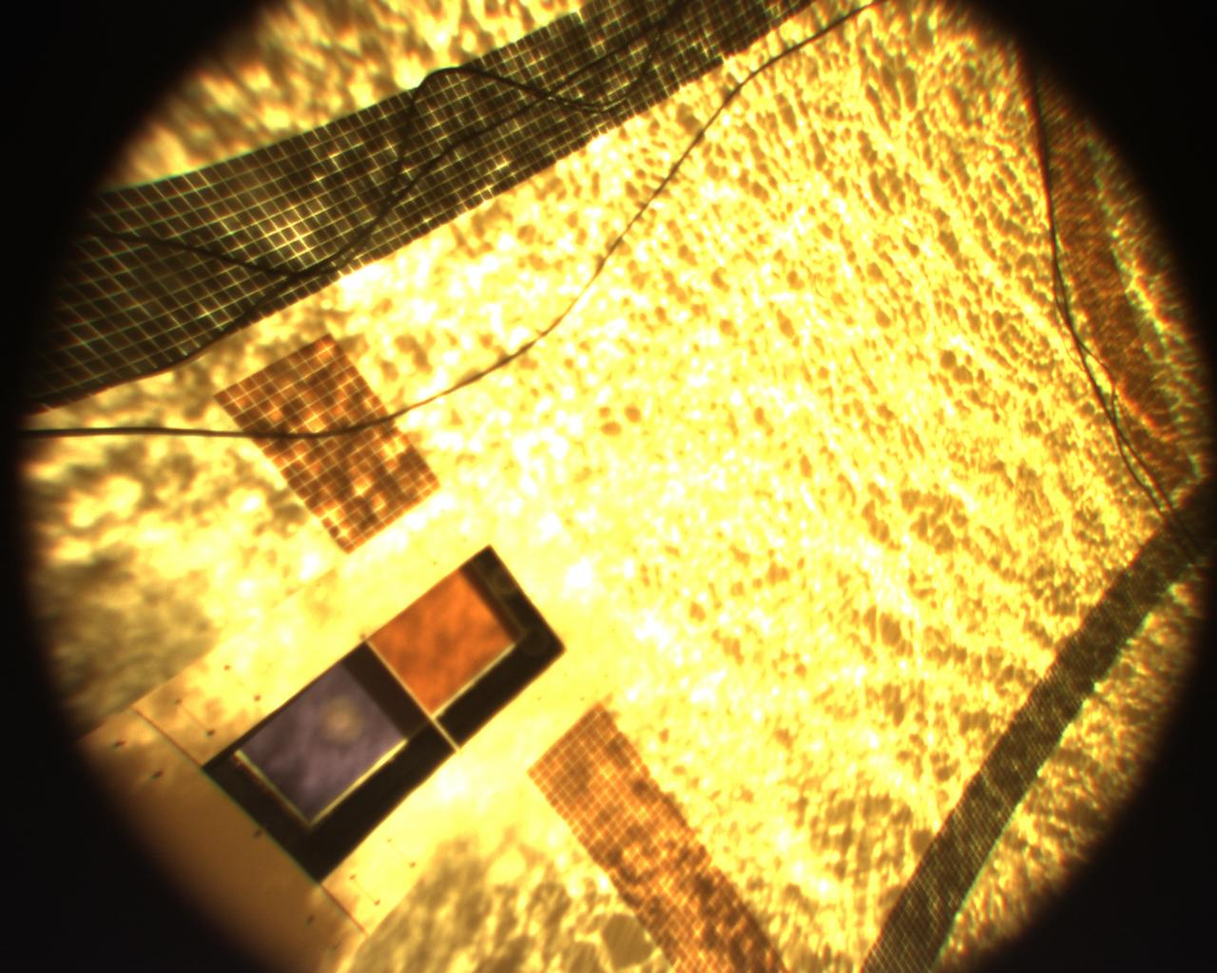dropper-box-top: (62, 468, 654, 973)
